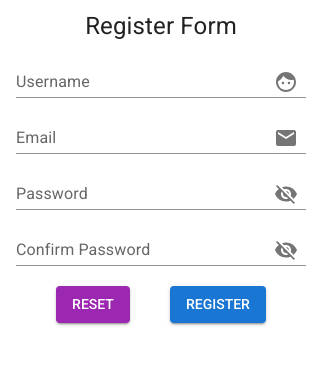
Test: RegisterForm component › Triggers form field validations › username is required text is displayed if it was focused and no value was provided
The image size is (323, 365).
Click the field labelled "Username" at (137, 82), box [16, 66, 258, 98]
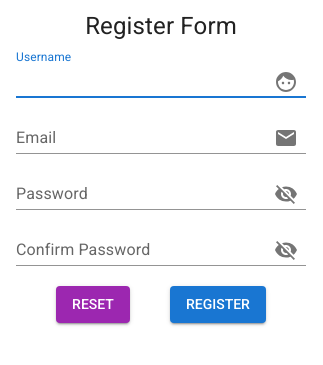
Click the button "Register" at (218, 304), box [170, 286, 266, 322]
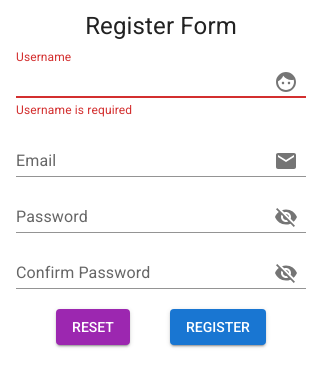
Check: the text "Username is required" is shown, box [16, 103, 132, 117]
